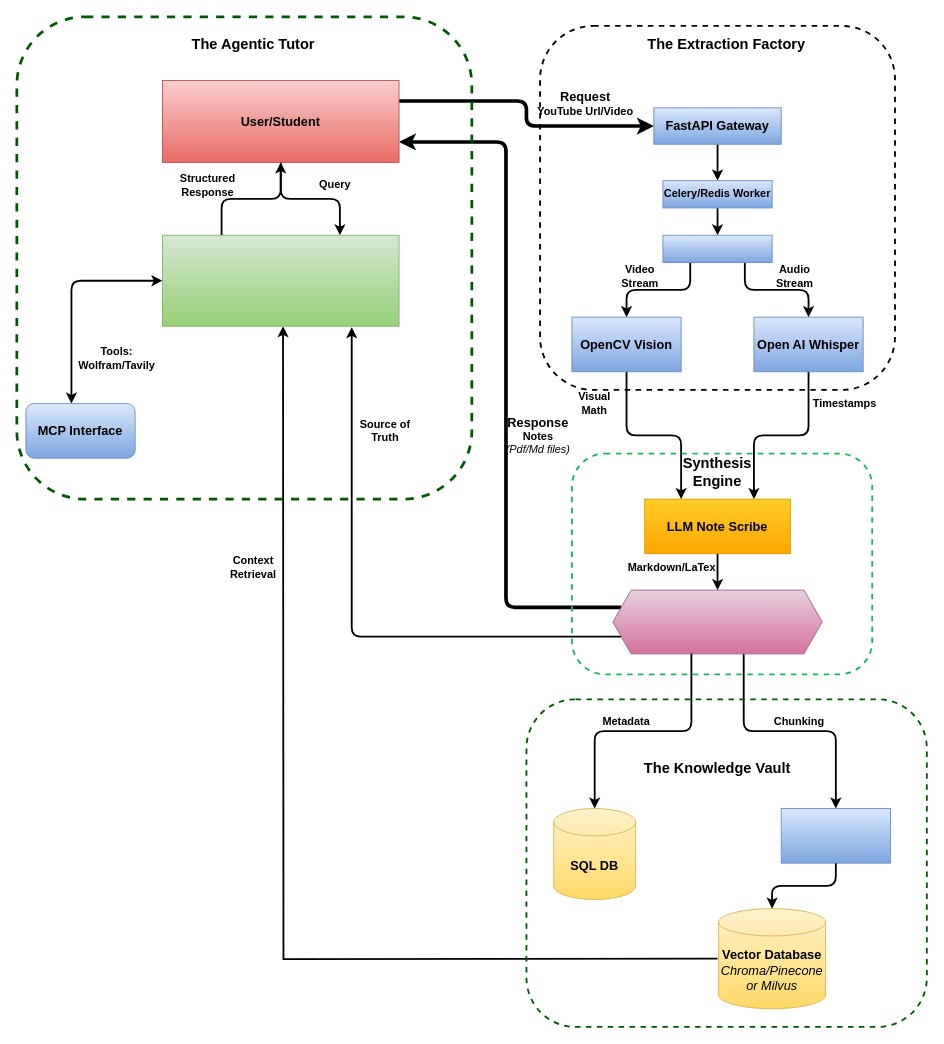
The diagram is 944 pixels wide and 1044 high, and some of its shapes have lost their labels. Each missing label, with the box of its shape:
LangGraph Orchestrator: (162, 234, 399, 326)
Master Study Notes PDF/MD File: (612, 589, 822, 654)
Vector Embeddings: (780, 808, 890, 863)
yt-dlp Engine: (662, 234, 772, 263)
